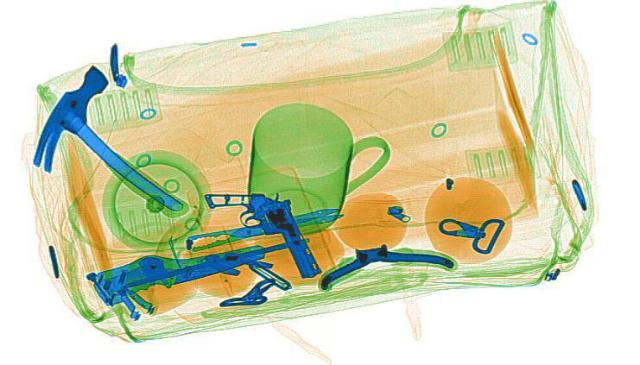Gun: (196, 181, 334, 284)
Pliers: (296, 233, 457, 289)
Scissors: (176, 203, 348, 250)
